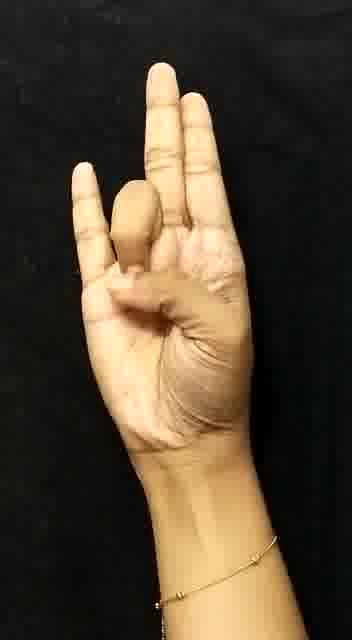mayur: (50, 58, 288, 486)
